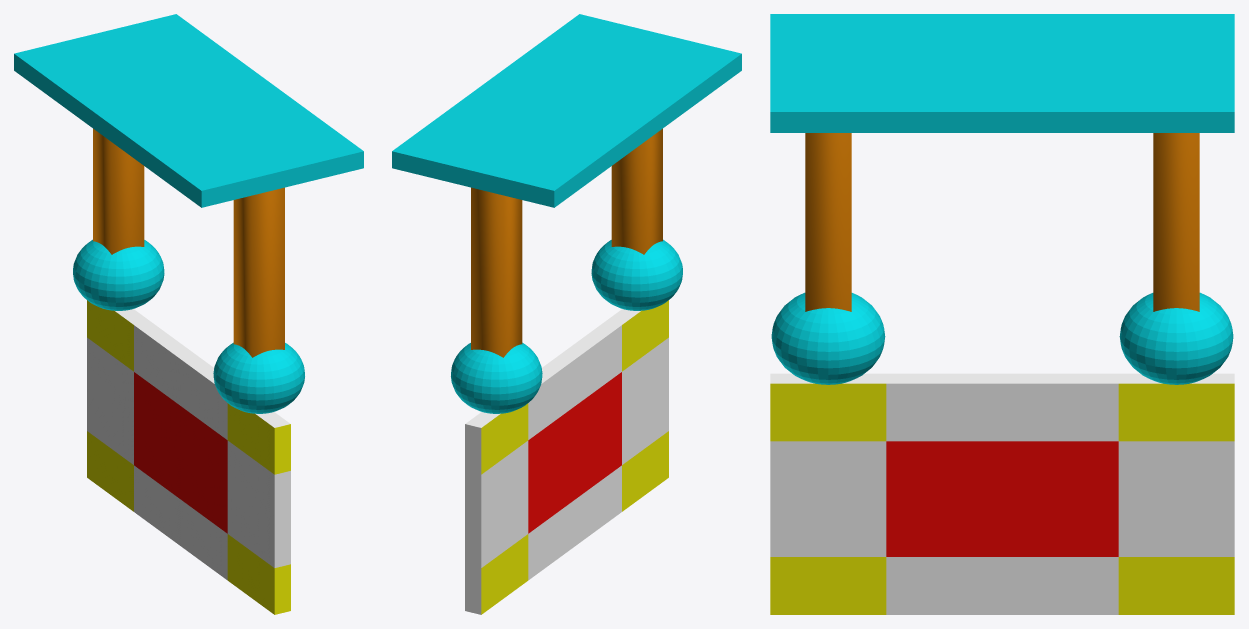
The model's file is obs-4.fbx.
3 renders of one model, left to right at view 1: azimuth 30°, elevation 25°; view 2: azimuth 150°, elevation 25°; view 3: azimuth 270°, elevation 25°, orthographic. The views are drawn at different scales.
Visible parts, largest first — view 1: bo, Cube, Cube.002, Cube.001, Sphere R, Sphere l; view 2: bo, Cube, Cube.001, Cube.002, Sphere l, Sphere R; view 3: bo, Cube, Cube.001, Cube.002, Sphere l, Sphere R.
Part boxes in pixels (x1,y1,x2,y2): bo: [87, 300, 290, 614]; Cube: [14, 14, 363, 207]; Cube.002: [233, 187, 284, 357]; Cube.001: [93, 128, 144, 254]; Sphere R: [213, 342, 304, 413]; Sphere l: [73, 239, 164, 310]; bo: [465, 300, 668, 614]; Cube: [392, 14, 741, 207]; Cube.001: [471, 187, 522, 357]; Cube.002: [611, 128, 662, 254]; Sphere l: [451, 342, 542, 413]; Sphere R: [591, 239, 682, 310]; bo: [770, 373, 1234, 614]; Cube: [770, 14, 1234, 132]; Cube.001: [1153, 133, 1199, 311]; Cube.002: [805, 133, 851, 311]; Sphere l: [1119, 292, 1233, 384]; Sphere R: [771, 292, 885, 384].
Size of what is drawn, in the model's own units: 200 by 520 by 400.
